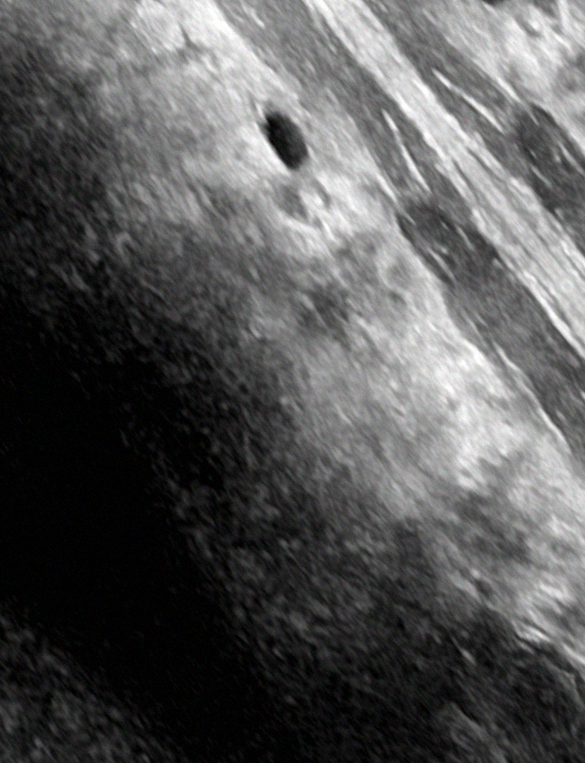Benign: (258, 109, 312, 172)
